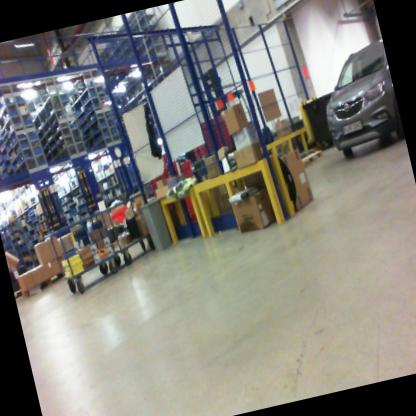pallet: (19, 267, 73, 306), (294, 144, 328, 171), (14, 284, 29, 301)
